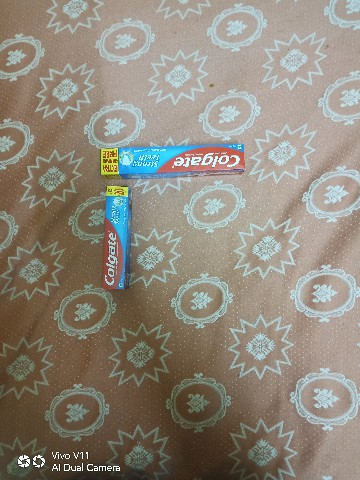colgatetoothpaste big: (87, 132, 260, 183)
colgatetoothpaste small: (99, 180, 137, 302)
